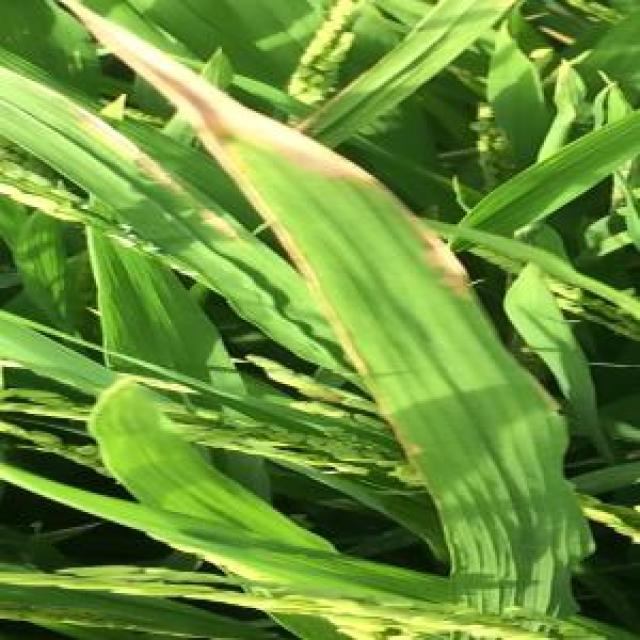Bacterial_Blight: (62, 0, 388, 179), (242, 180, 418, 468), (68, 105, 191, 193), (420, 225, 471, 297), (194, 206, 242, 244)
